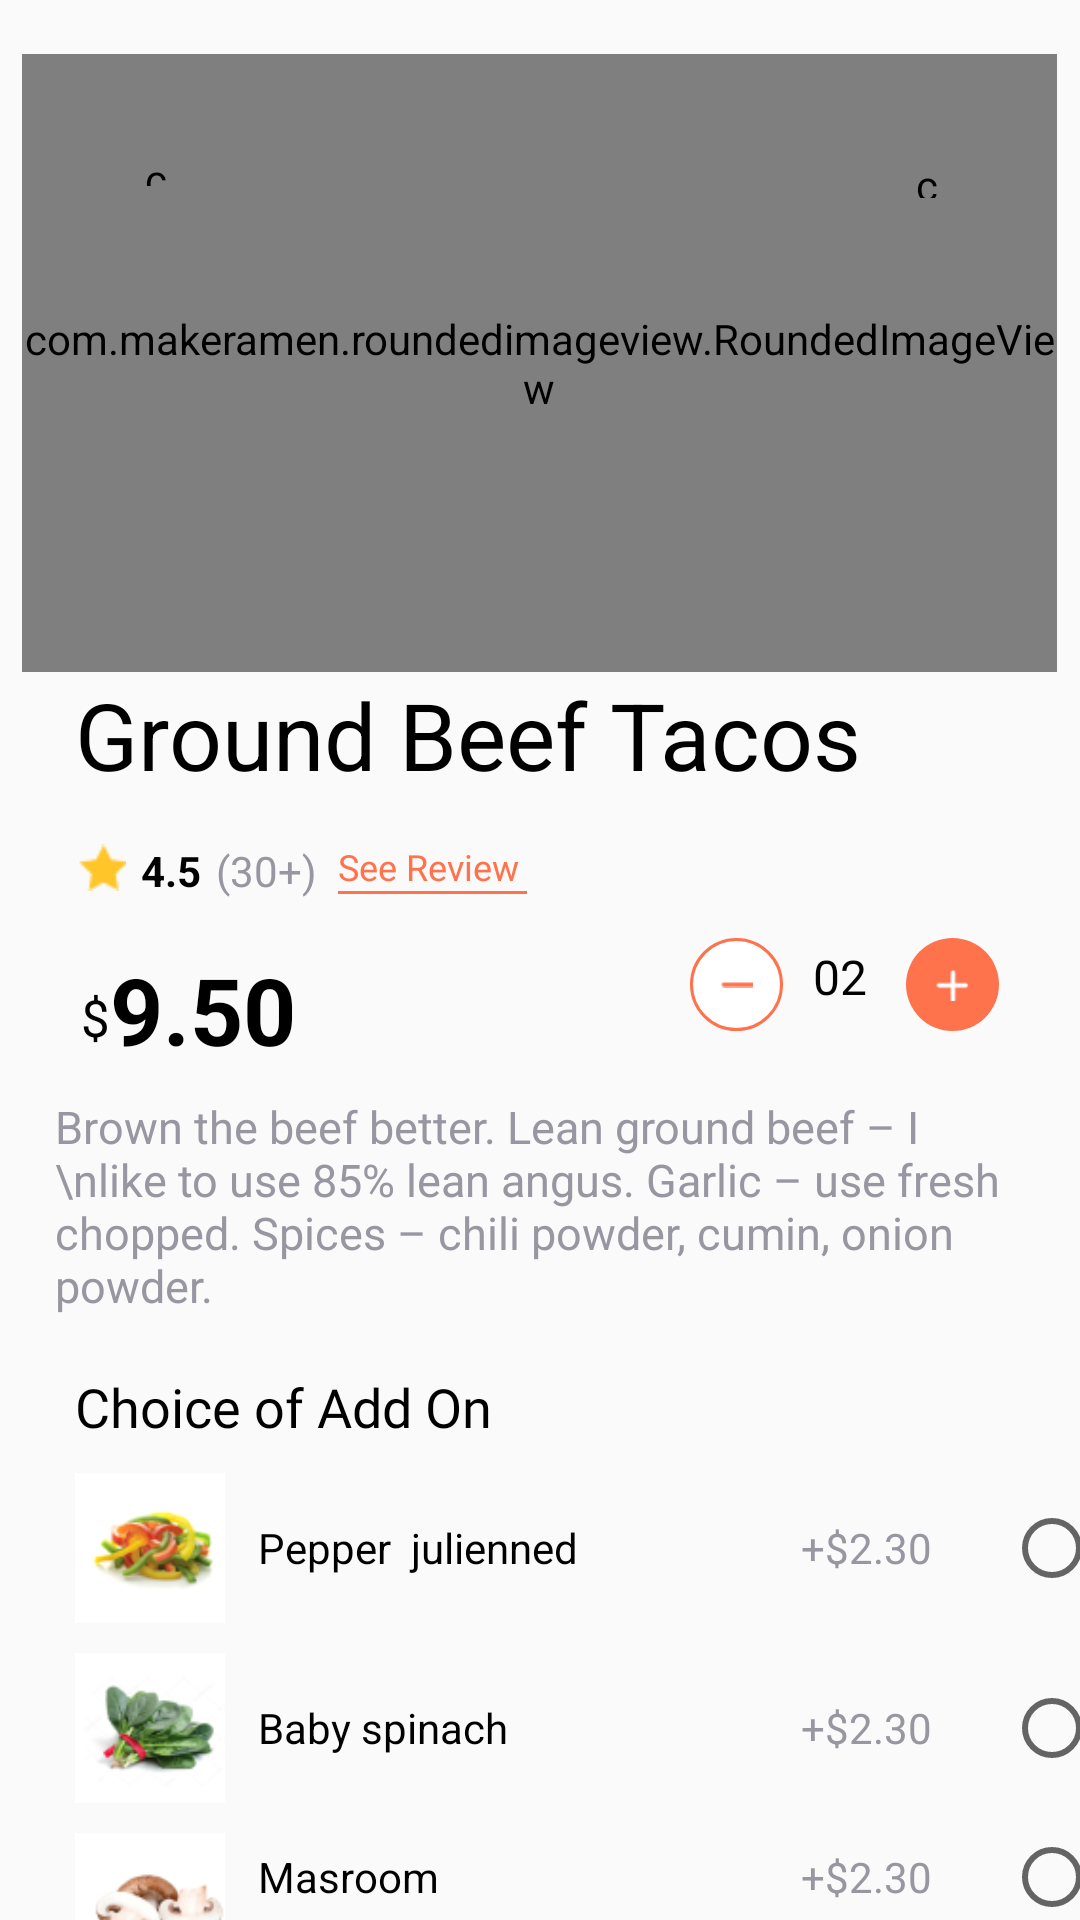

Where icons sit on this 1080px x 1920px app screen, as (left=x1, top=y1, right=x2, bottom=y2):
minus: (left=690, top=938, right=783, bottom=1031)
papper: (left=93, top=1511, right=213, bottom=1586)
plus: (left=906, top=938, right=999, bottom=1031)
start rating: (left=79, top=844, right=126, bottom=891)
vegitables: (left=101, top=1685, right=214, bottom=1771)
